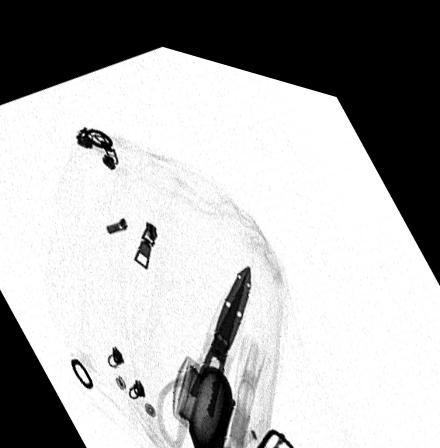Scissors: (154, 246, 256, 448)
